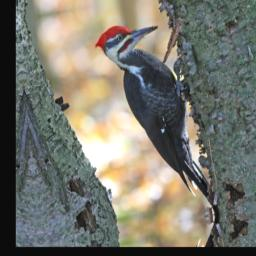Woodpecker: (92, 9, 218, 231)
